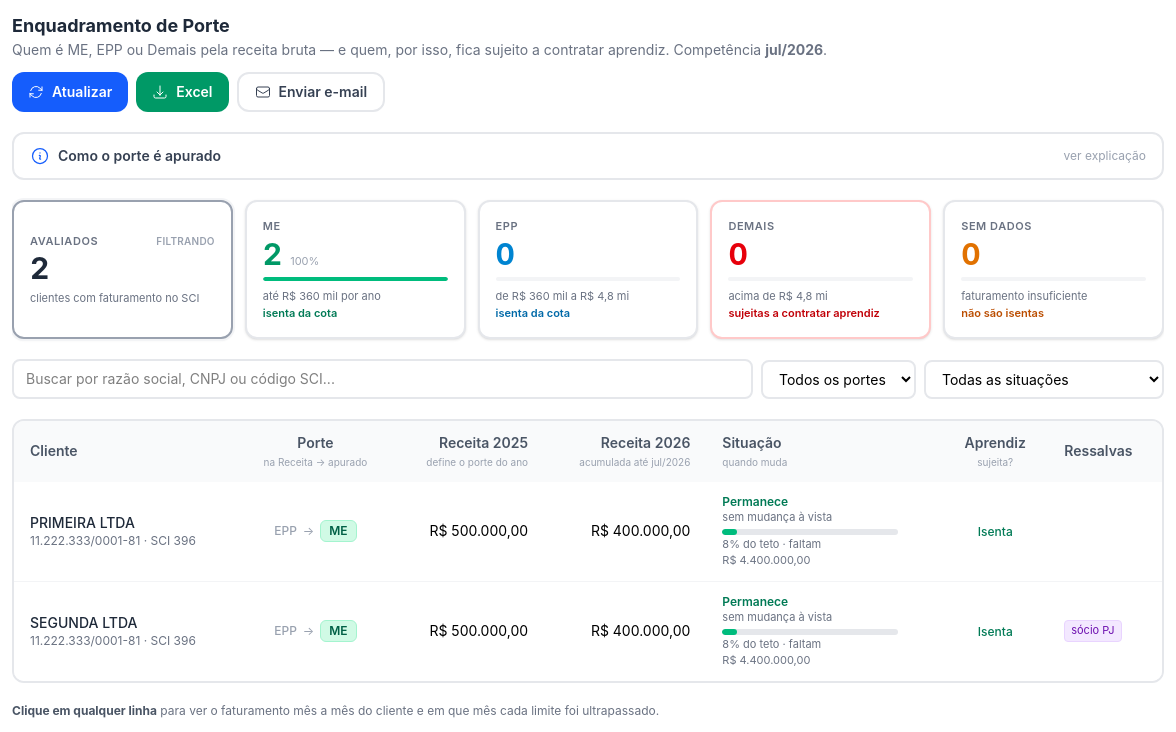
CotaAprendizagemTab › o cartão zera o filtro de situação, para o número bater com a tabela
Expected: the text "PRIMEIRA LTDA" is shown, [30,514,135,531]
Select "A conferir antes de valer" in the 2nd dropdown showing "Todas as situações" at (1044, 379), box [924,360,1164,399]
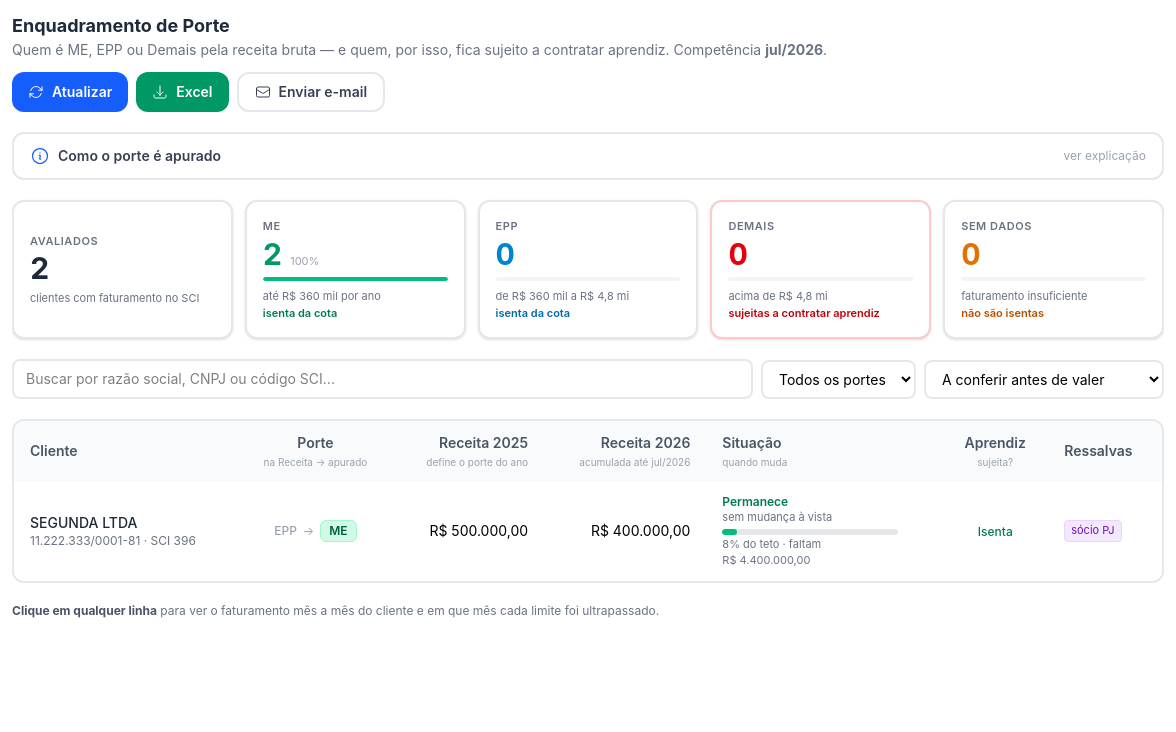
Now the text "PRIMEIRA LTDA" is gone
Click the button "ME 2 100% até R$ 360 mil por ano isenta da cota" at (355, 270), box [245,200,466,339]
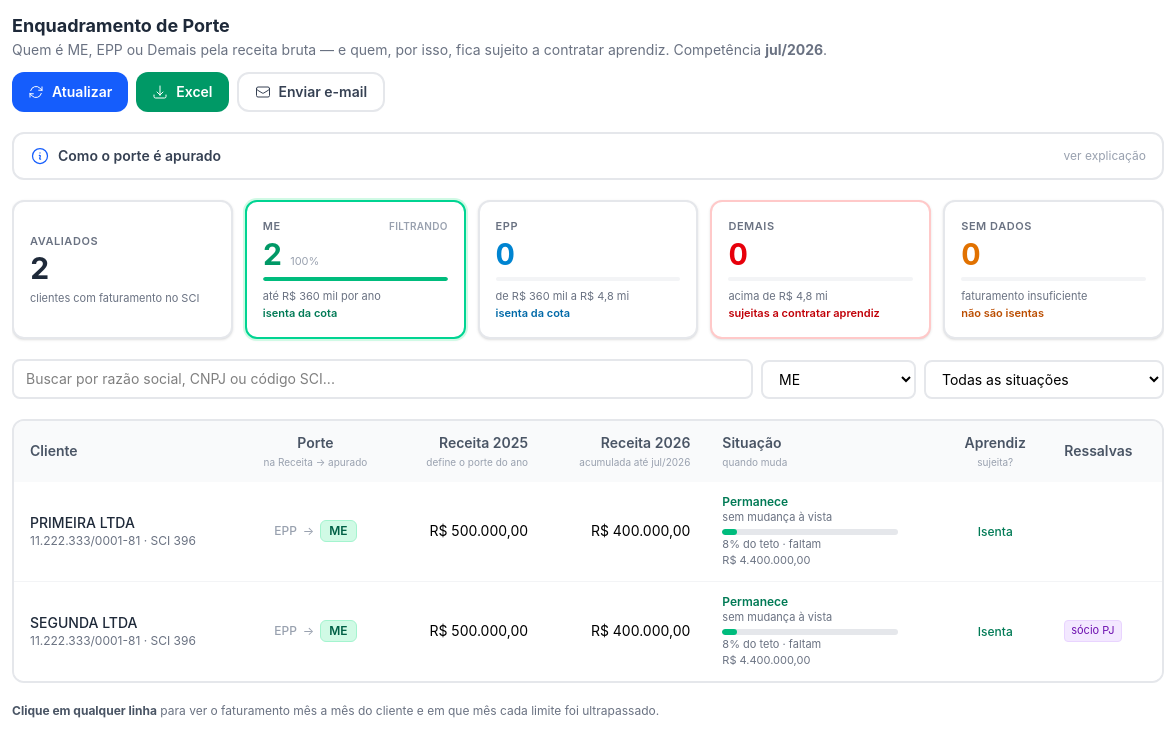
Expected: the text "SEGUNDA LTDA" is shown, [30,614,137,631]
Now the text "PRIMEIRA LTDA" is shown, box [30,514,135,531]
